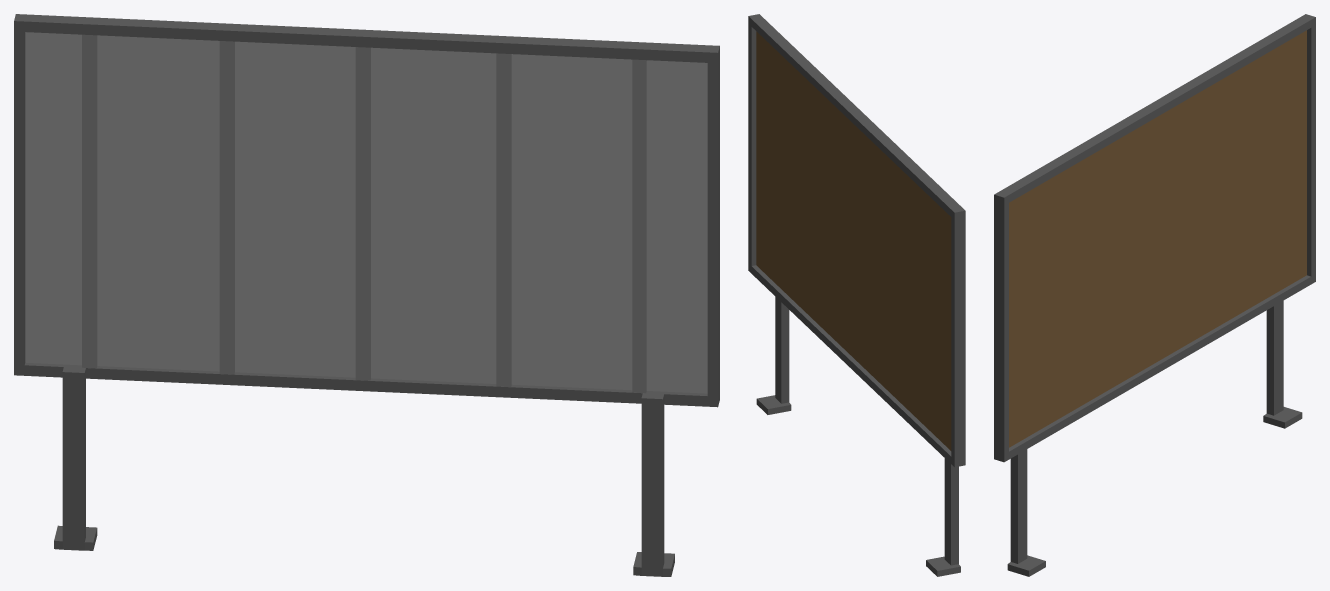
Rendered from Street Advertisement 4.fbx.
The picture shows the model from 3 angles, left to right: view 1: azimuth 30°, elevation 25°; view 2: azimuth 150°, elevation 25°; view 3: azimuth 270°, elevation 25°; orthographic projection. The views are drawn at different scales.
Visible parts, largest first — view 1: Street Advertisement 4; view 2: Street Advertisement 4; view 3: Street Advertisement 4.
Part boxes in pixels (left/top/right/bottom): Street Advertisement 4: left=14, top=14, right=719, bottom=576; Street Advertisement 4: left=748, top=14, right=965, bottom=576; Street Advertisement 4: left=994, top=14, right=1315, bottom=576.
Size of the model in its own units: 528 by 391 by 522.
